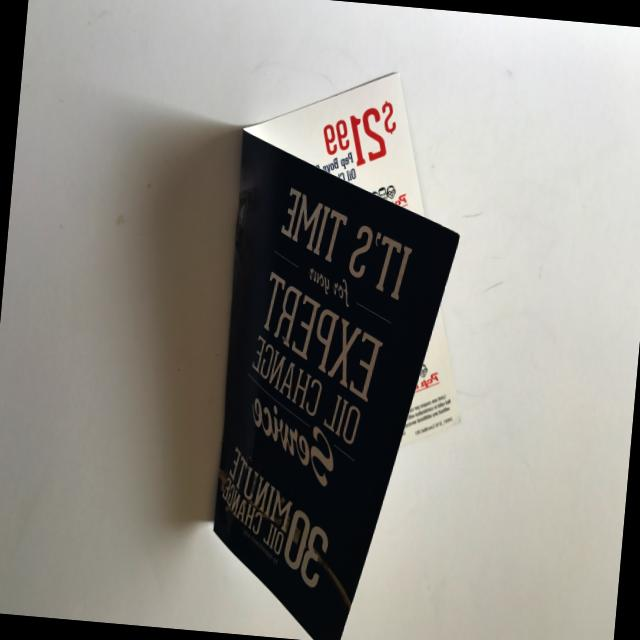Paper: (181, 60, 496, 640)
